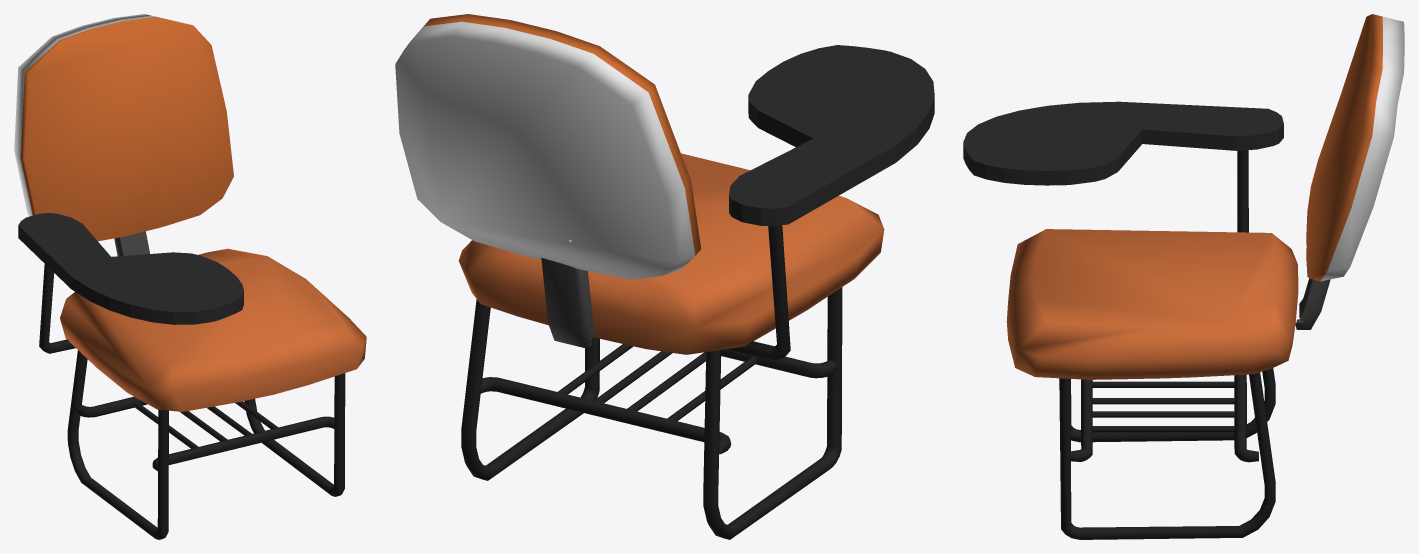
Rendered from Cadeiras-sala  de audio telma(trevo).fbx.
3 renders of one model, left to right at view 1: azimuth 30°, elevation 25°; view 2: azimuth 150°, elevation 25°; view 3: azimuth 270°, elevation 25°, orthographic. The views are drawn at different scales.
Visible parts, largest first — view 1: cadeira sala de costura; view 2: cadeira sala de costura; view 3: cadeira sala de costura.
Part boxes in pixels (box(x1,y1,x2,y2)): cadeira sala de costura: box(14, 14, 366, 539); cadeira sala de costura: box(395, 14, 934, 539); cadeira sala de costura: box(963, 14, 1404, 539).
Bounding box in the file's own units: 0.7237 × 1.03 × 0.9152.
